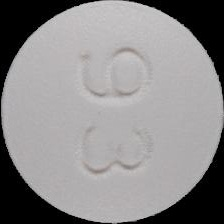0093-0314: (0, 0, 224, 224)
